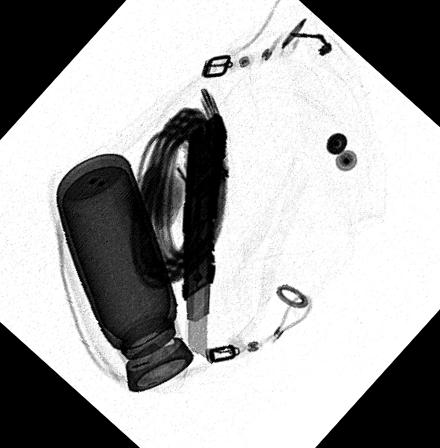Knife: (181, 111, 229, 360)
